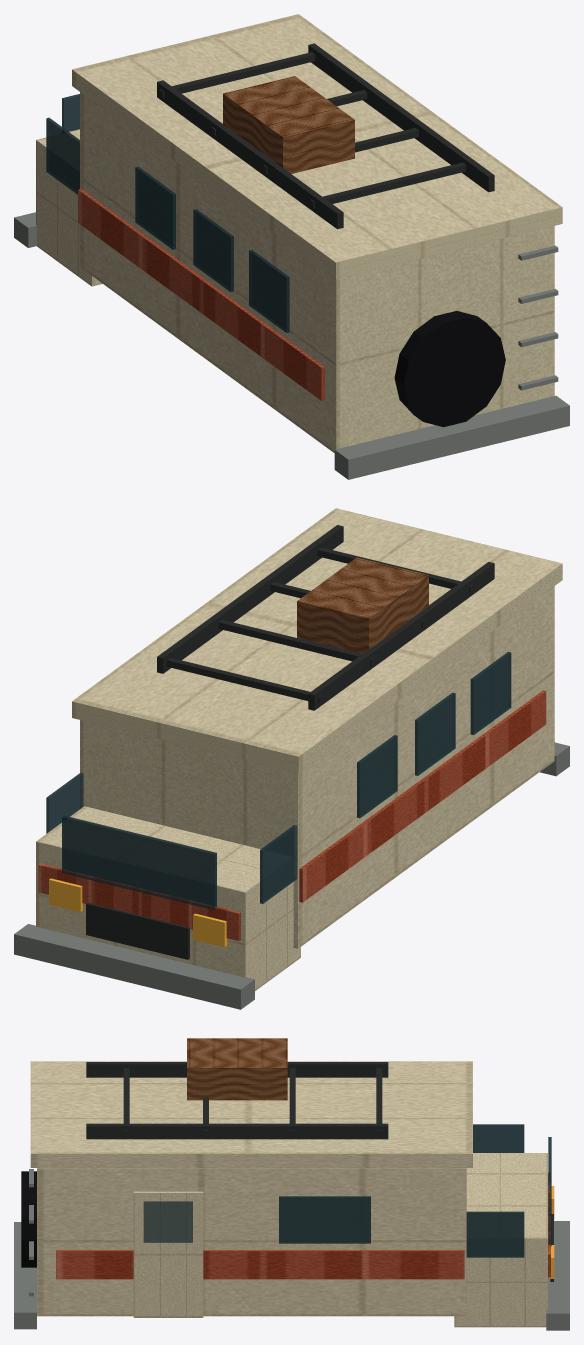
File: rv_exterior.obj
3 views of the same model, one above another, from view 1: azimuth 30°, elevation 25°; view 2: azimuth 150°, elevation 25°; view 3: azimuth 270°, elevation 25° (orthographic). The views are drawn at different scales.
Parts seen in each view (by area): view 1: Coach, RoofCap, SpareWheel, StripeSide-1, RoofCargo, RackRail, RearBumper, Cab, RackCrossbar, CoachWindowL0, CoachWindowL1, CoachWindowL2 (+4 smaller); view 2: Coach, RoofCap, Cab, StripeSide-1, Windshield, RoofCargo, FrontBumper, RackRail, StripeFront, RackCrossbar, Grille, CoachWindowL2 (+6 smaller); view 3: Coach, RoofCap, Cab, StripeSide1, Door, RackRail, RoofCargo, CoachWindowR, CabSideWindow1, FrontBumper, DoorWindow, RearBumper (+5 smaller).
Boxes of the visible parts, bbox=[...] form: Coach: bbox=[80, 92, 554, 452]; RoofCap: bbox=[72, 14, 562, 278]; SpareWheel: bbox=[394, 311, 505, 427]; StripeSide-1: bbox=[78, 189, 324, 400]; RoofCargo: bbox=[223, 76, 354, 173]; RackRail: bbox=[157, 43, 494, 229]; RearBumper: bbox=[334, 395, 569, 479]; Cab: bbox=[36, 129, 102, 286]; RackCrossbar: bbox=[159, 52, 466, 208]; CoachWindowL0: bbox=[135, 166, 175, 249]; CoachWindowL1: bbox=[193, 209, 233, 292]; CoachWindowL2: bbox=[249, 250, 289, 332]; Coach: bbox=[80, 586, 554, 948]; RoofCap: bbox=[72, 508, 562, 773]; Cab: bbox=[36, 806, 300, 990]; StripeSide-1: bbox=[299, 690, 546, 902]; Windshield: bbox=[62, 815, 216, 910]; RoofCargo: bbox=[297, 557, 428, 653]; FrontBumper: bbox=[14, 924, 254, 1009]; RackRail: bbox=[157, 525, 494, 710]; StripeFront: bbox=[38, 863, 240, 941]; RackCrossbar: bbox=[166, 547, 473, 703]; Grille: bbox=[86, 902, 189, 959]; CoachWindowL2: bbox=[470, 651, 511, 734]; Coach: bbox=[37, 1168, 466, 1316]; RoofCap: bbox=[30, 1061, 472, 1167]; Cab: bbox=[454, 1153, 547, 1327]; StripeSide1: bbox=[56, 1250, 464, 1279]; Door: bbox=[133, 1191, 203, 1317]; RackRail: bbox=[86, 1062, 388, 1139]; RoofCargo: bbox=[187, 1038, 287, 1100]; CoachWindowR: bbox=[279, 1196, 370, 1243]; CabSideWindow1: bbox=[466, 1211, 524, 1257]; FrontBumper: bbox=[546, 1221, 569, 1330]; DoorWindow: bbox=[143, 1201, 192, 1242]; RearBumper: bbox=[14, 1222, 36, 1329].
Bounding box in the file's own units: 2.59 × 2.8 × 6.54.
8 materials, 3 textured.
